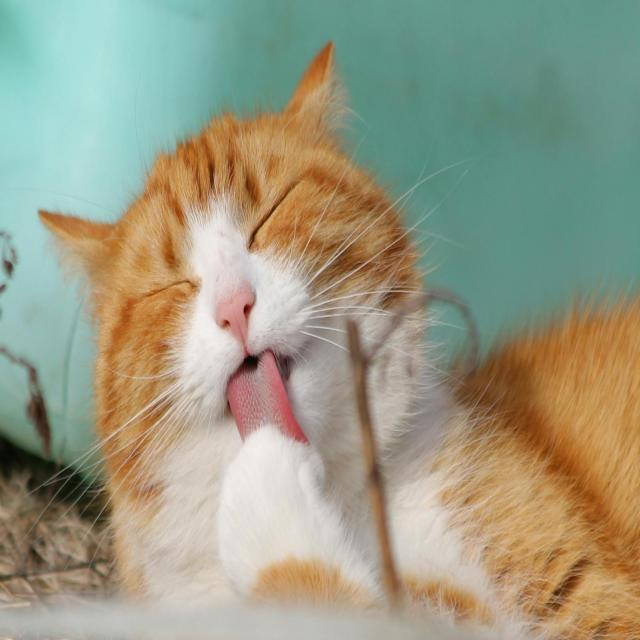Cat: (29, 38, 638, 638)
